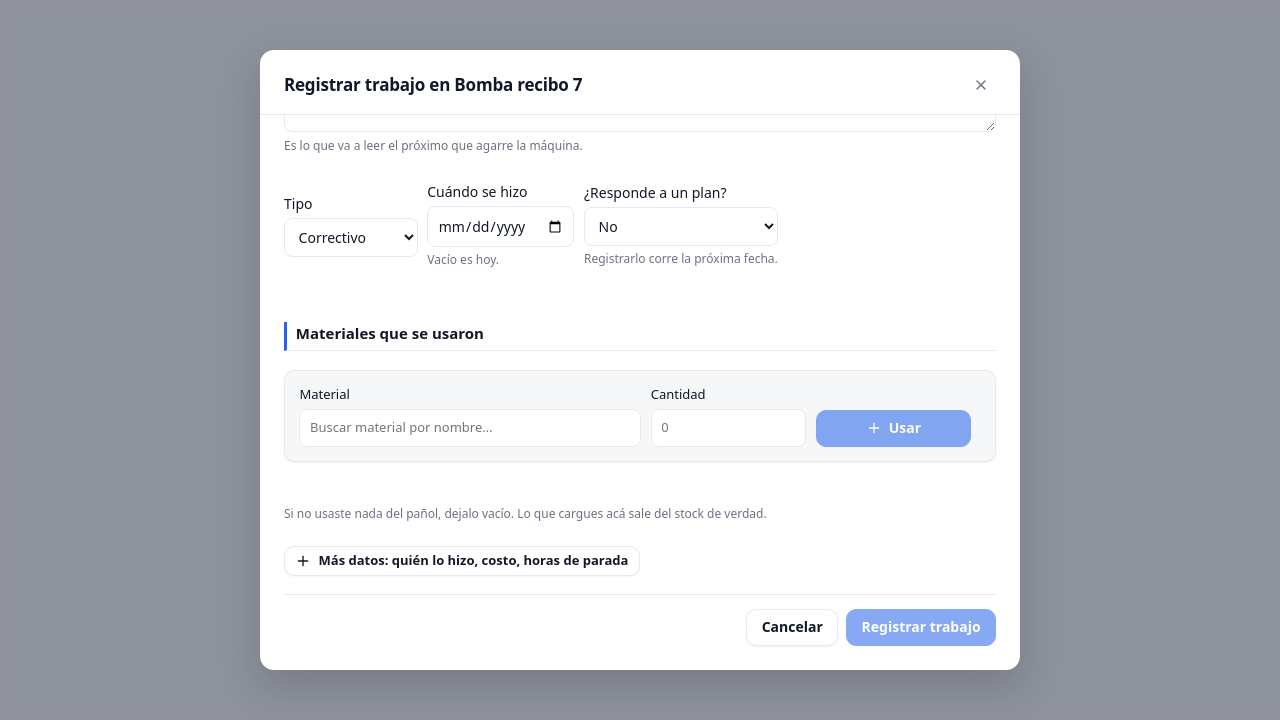
registrar un trabajo desde la ficha de una maquina › REGRESION: servicio externo ofrece buscar el proveedor, y nunca pide mas de 100
This screenshot has width=1280, height=720.
(page scrolled)
Click the button "Más datos: quién lo hizo, costo, horas de parada" at (462, 561), box [284, 546, 640, 576]
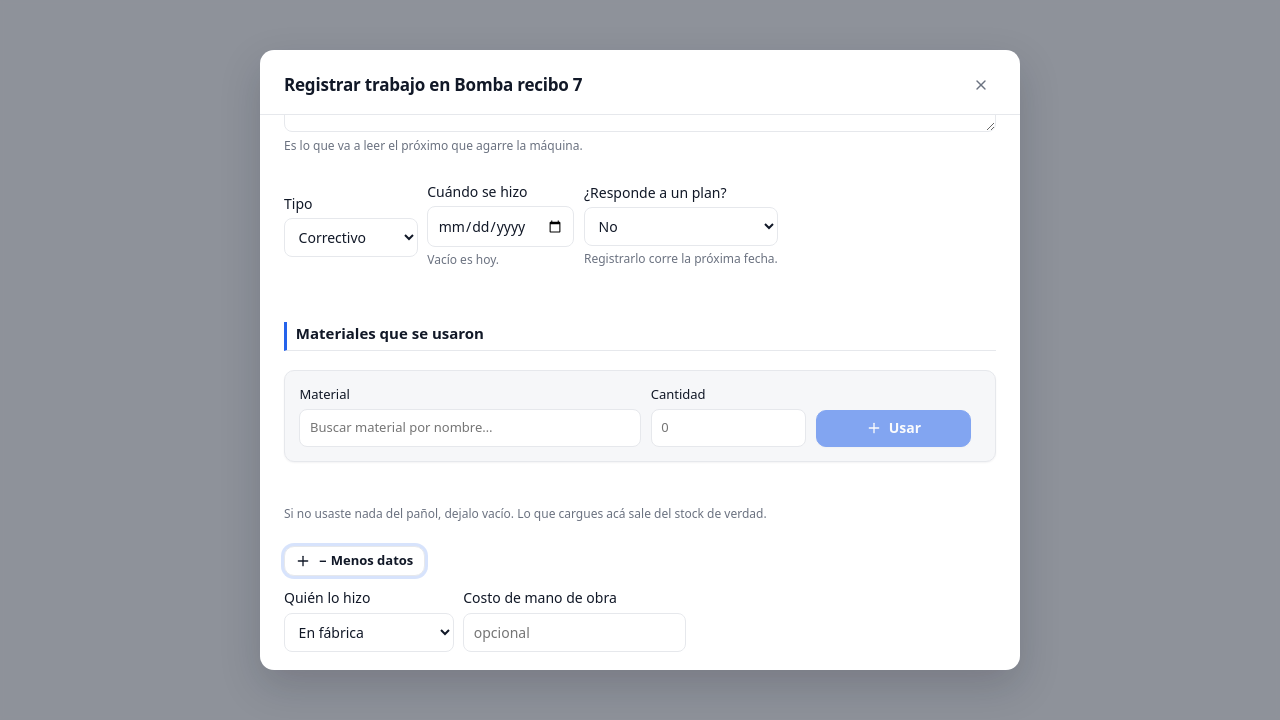
Select "Servicio externo" in the dropdown labelled "Quién lo hizo" at (369, 632), box [284, 613, 454, 652]
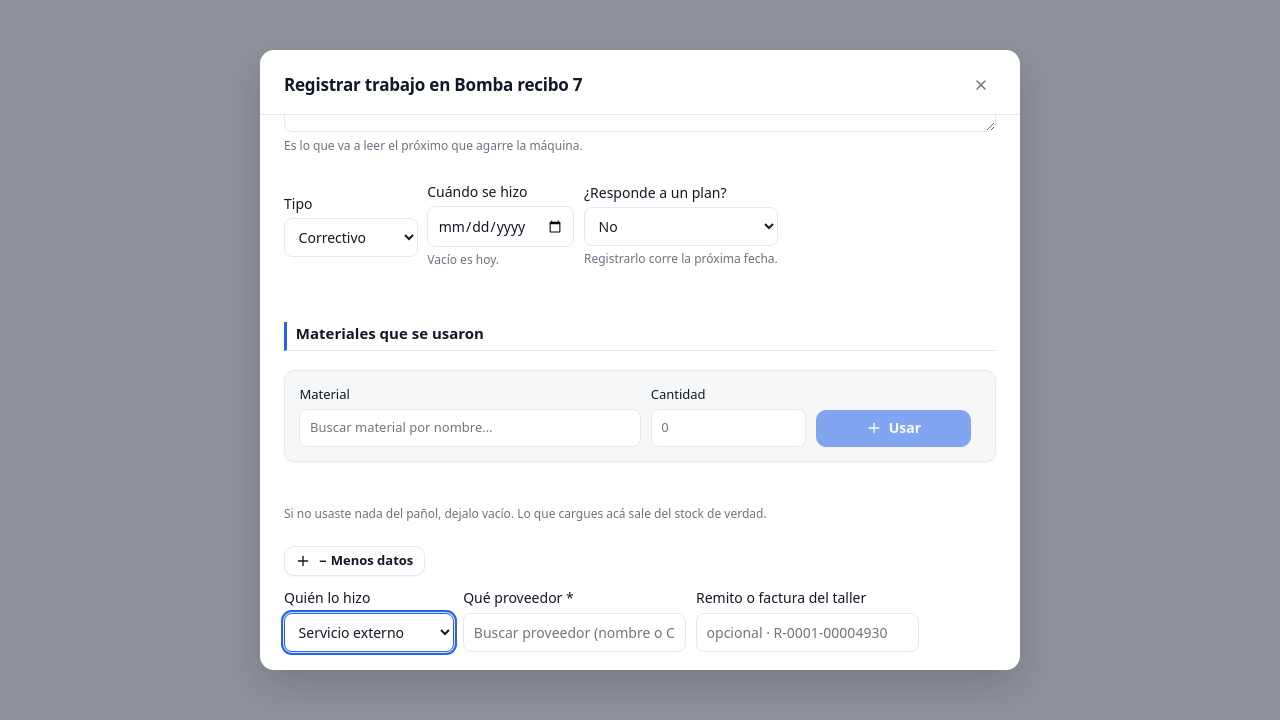
Result: the field with placeholder "Buscar proveedor (nombre o CUIT)…" is shown at [463, 613, 686, 652]
